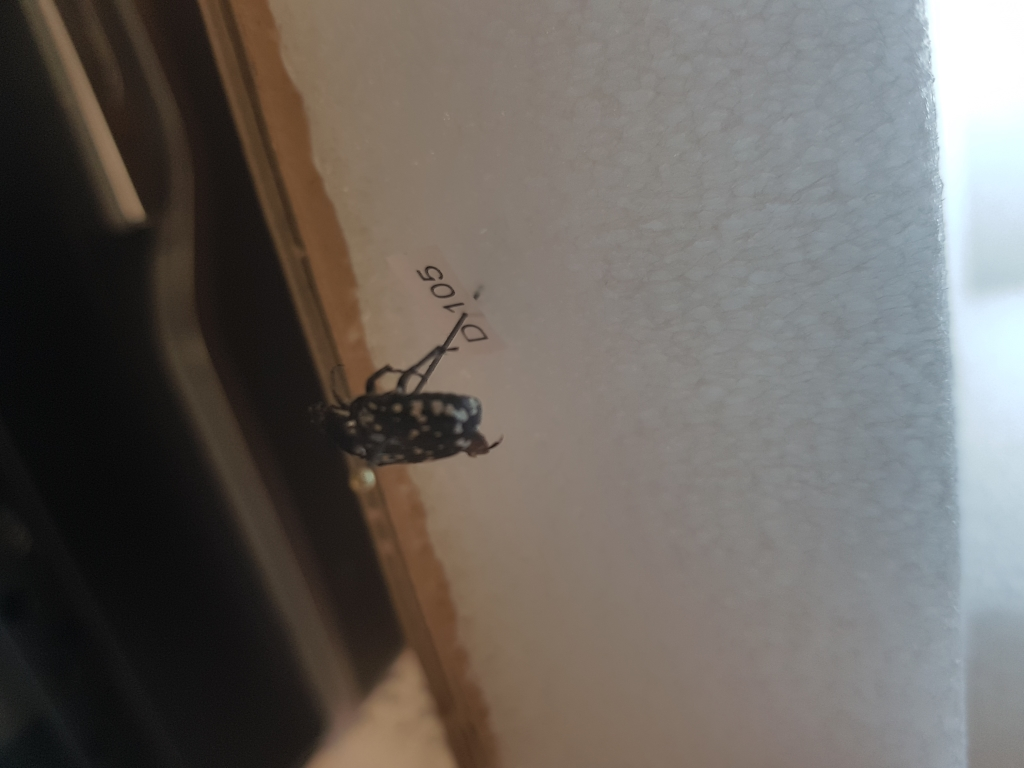Oxythyrea_cinctella: (313, 337, 511, 464)
